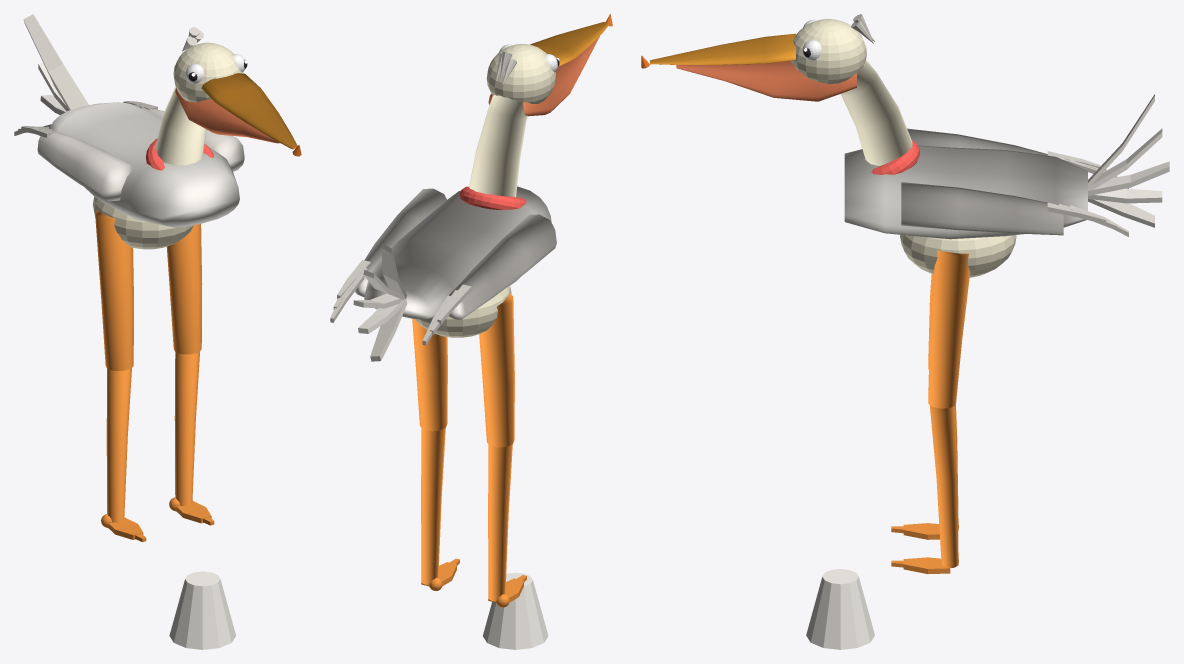
The model's file is pelican.glb.
3 renders of one model, left to right at view 1: azimuth 30°, elevation 25°; view 2: azimuth 150°, elevation 25°; view 3: azimuth 270°, elevation 25°, orthographic. The views are drawn at different scales.
Visible parts, largest first — view 1: PBody, ThighL, FluffL, ThighR, WingL, ShinL, ShinR, BeakUp, Neck, HeadBall, PBelly, Pouch (+5 smaller); view 2: PBody, WingL, ThighL, Neck, ShinR, ShinL, FluffL, ThighR, HeadBall, WingR, PBelly, Pouch (+7 smaller); view 3: PBody, WingR, ThighR, Neck, FluffL, Pouch, HeadBall, ShinR, PBelly, BeakUp, WingL, TailF2 (+3 smaller).
Part boxes in pixels (left/top/right/bottom): PBody: left=50, top=102, right=239, bottom=227; ThighL: left=95, top=210, right=133, bottom=370; FluffL: left=169, top=571, right=235, bottom=649; ThighR: left=166, top=224, right=202, bottom=354; WingL: left=37, top=130, right=133, bottom=201; ShinL: left=106, top=368, right=131, bottom=522; ShinR: left=174, top=351, right=199, bottom=506; BeakUp: left=201, top=73, right=297, bottom=149; Neck: left=155, top=86, right=206, bottom=165; HeadBall: left=173, top=42, right=243, bottom=102; PBelly: left=92, top=196, right=193, bottom=249; Pouch: left=175, top=88, right=279, bottom=143; PBody: left=364, top=186, right=551, bottom=319; WingL: left=449, top=214, right=556, bottom=319; ThighL: left=479, top=292, right=514, bottom=447; Neck: left=469, top=95, right=527, bottom=197; ShinR: left=421, top=428, right=445, bottom=585; ShinL: left=488, top=444, right=512, bottom=601; FluffL: left=483, top=572, right=548, bottom=649; ThighR: left=412, top=318, right=447, bottom=431; HeadBall: left=486, top=44, right=555, bottom=103; WingR: left=355, top=188, right=446, bottom=296; PBelly: left=415, top=286, right=511, bottom=337; Pouch: left=488, top=36, right=599, bottom=116; PBody: left=844, top=145, right=1087, bottom=239; WingR: left=901, top=182, right=1063, bottom=235; ThighR: left=928, top=250, right=970, bottom=408; Neck: left=840, top=60, right=912, bottom=165; FluffL: left=806, top=569, right=874, bottom=649; Pouch: left=676, top=61, right=856, bottom=101; HeadBall: left=791, top=19, right=866, bottom=84; ShinR: left=929, top=405, right=958, bottom=567; PBelly: left=900, top=234, right=1016, bottom=277; BeakUp: left=650, top=33, right=795, bottom=64; WingL: left=907, top=128, right=1047, bottom=155; TailF2: left=1088, top=161, right=1169, bottom=195.
Size of the model in its own units: 0.42 by 1.69 by 1.3.
